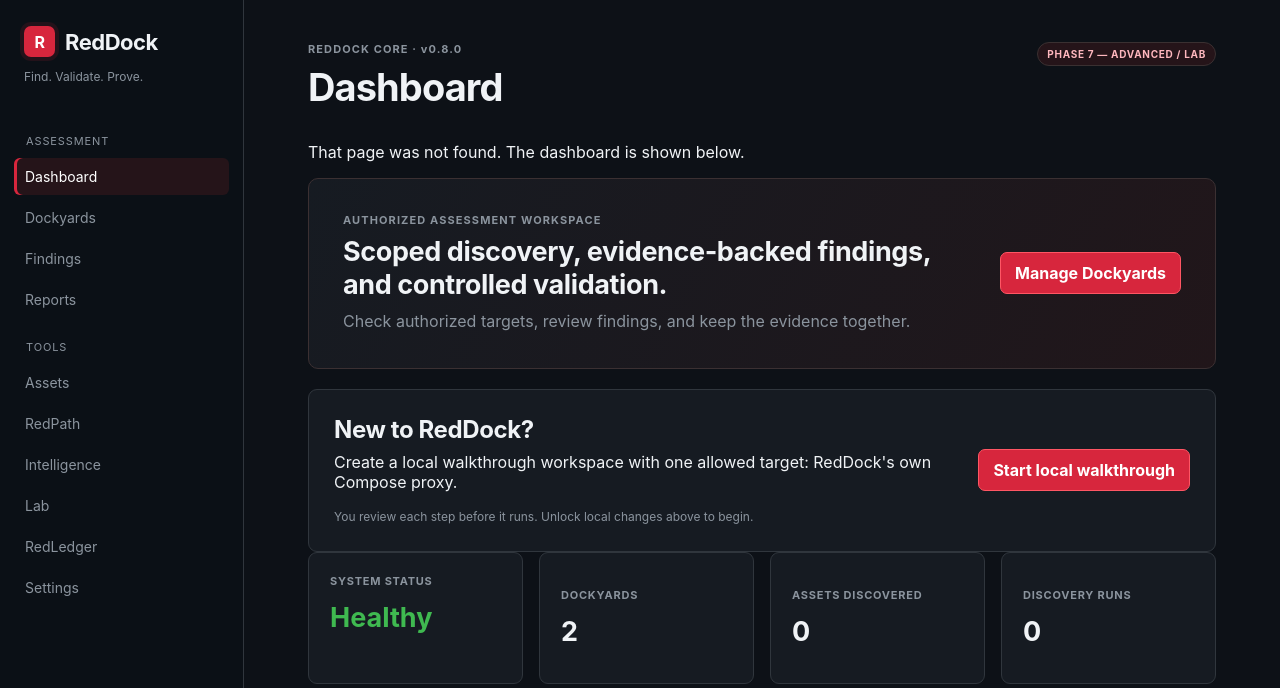
it: RedDock application › shows safe read-only settings and recovers from an unknown path
The width and height of the screenshot is (1280, 688).
Check: the text "That page was not found. The dashboard is shown below." is shown, box [308, 142, 745, 162]
Click the button "Settings".
click(122, 588)  # box [14, 569, 229, 606]
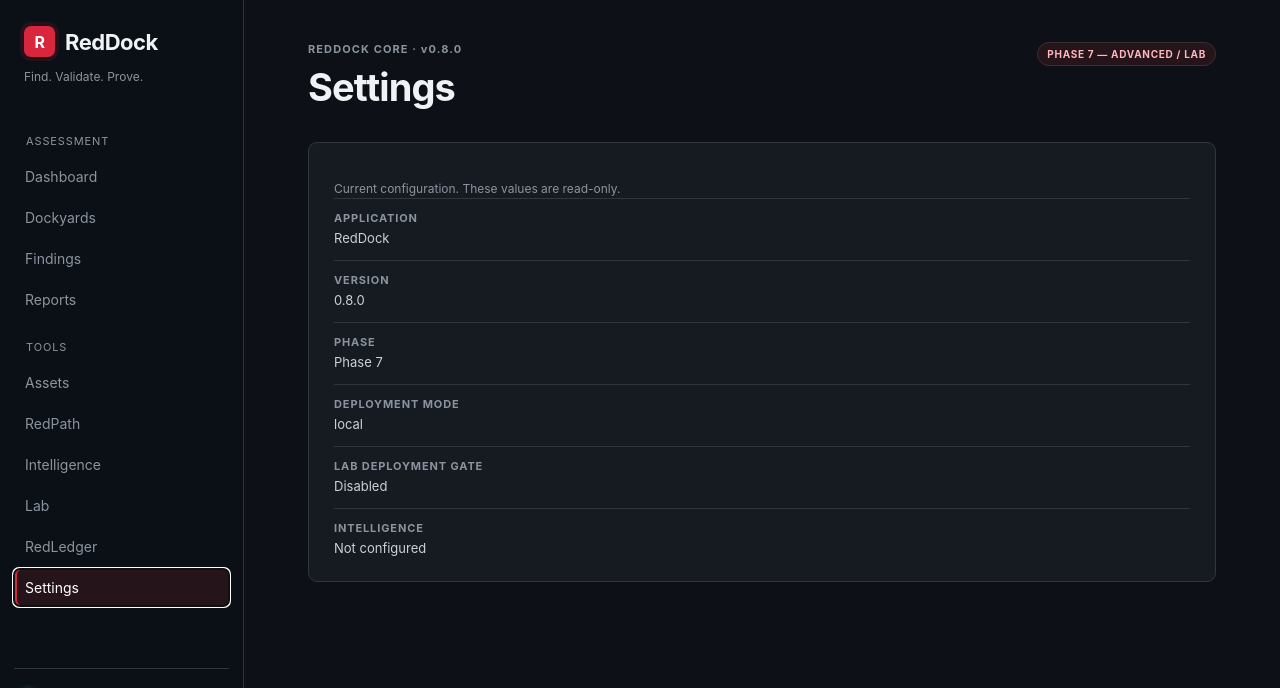
Check: the text "local" is shown, box [334, 416, 363, 432]
Check: the text "Disabled" is shown, box [334, 478, 387, 494]
Check: the text "Not configured" is shown, box [334, 540, 426, 556]
